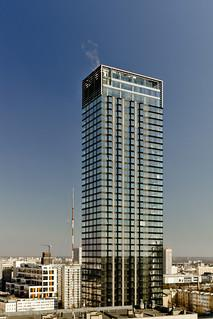building: (78, 63, 166, 317)
